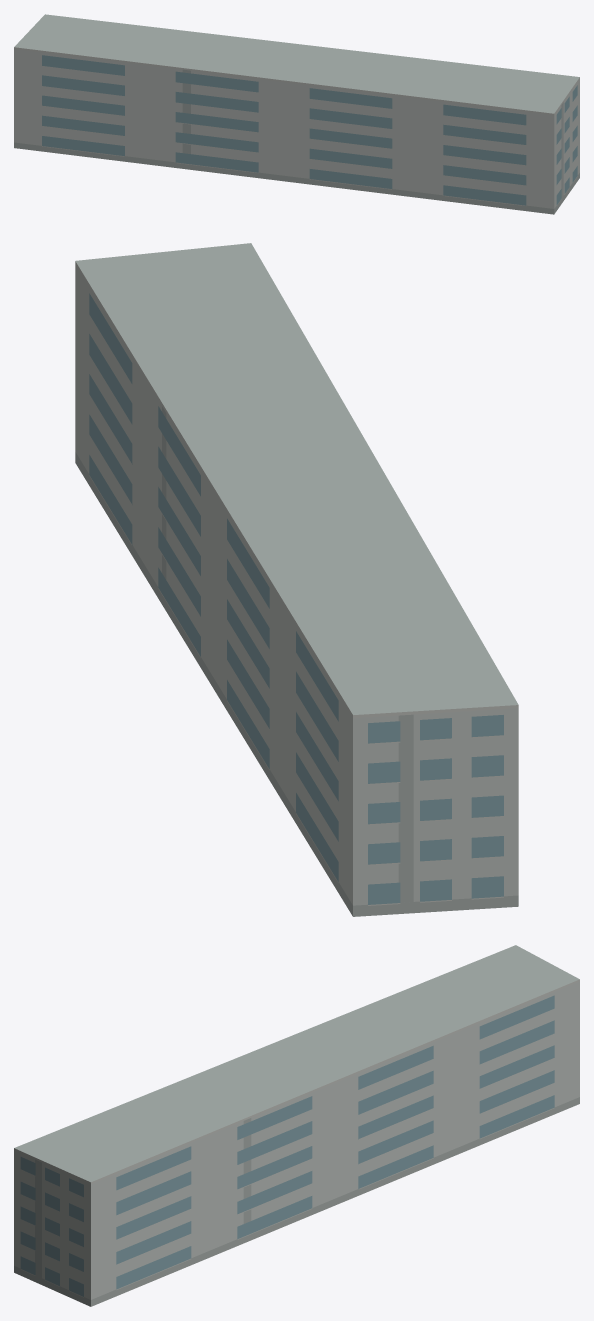
File: residential-0e458022-df87-4973-8b78-efb15b7f6132.glb
3 views of the same model, one above another, from view 1: azimuth 30°, elevation 25°; view 2: azimuth 150°, elevation 25°; view 3: azimuth 270°, elevation 25° (orthographic). The views are drawn at different scales.
Parts seen in each view (by area): view 1: residential-0e458022-df87-4973-8b78-efb15b7f6132.tmp; view 2: residential-0e458022-df87-4973-8b78-efb15b7f6132.tmp; view 3: residential-0e458022-df87-4973-8b78-efb15b7f6132.tmp.
Boxes of the visible parts, <box> form: residential-0e458022-df87-4973-8b78-efb15b7f6132.tmp: <box>14,14,579,214</box>; residential-0e458022-df87-4973-8b78-efb15b7f6132.tmp: <box>75,243,518,916</box>; residential-0e458022-df87-4973-8b78-efb15b7f6132.tmp: <box>14,945,579,1306</box>.
Size of the model in its own units: 62.32 by 15.25 by 62.79.
